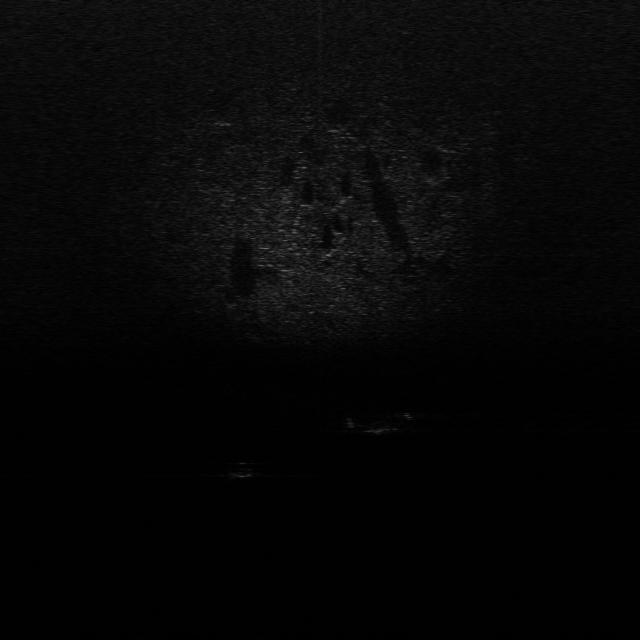ball: (222, 457, 257, 481)
human body: (339, 410, 427, 435)
